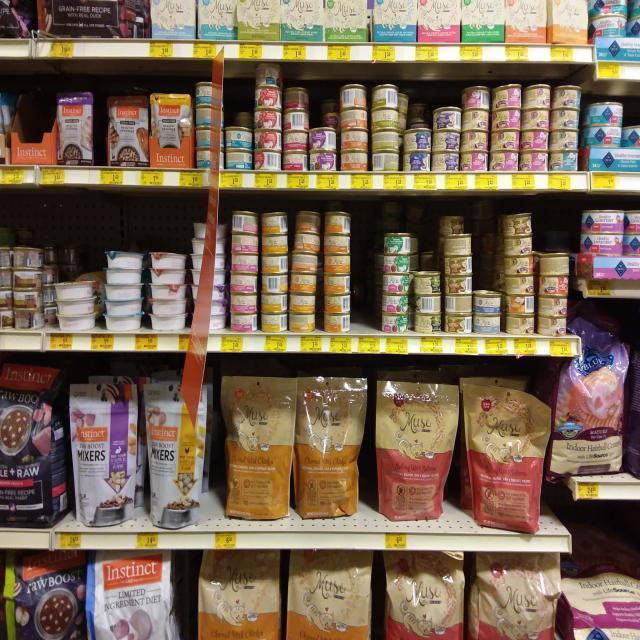Imprecise: (440, 212, 478, 336), (410, 247, 442, 332), (313, 90, 342, 174), (404, 86, 431, 174), (222, 101, 256, 168)
